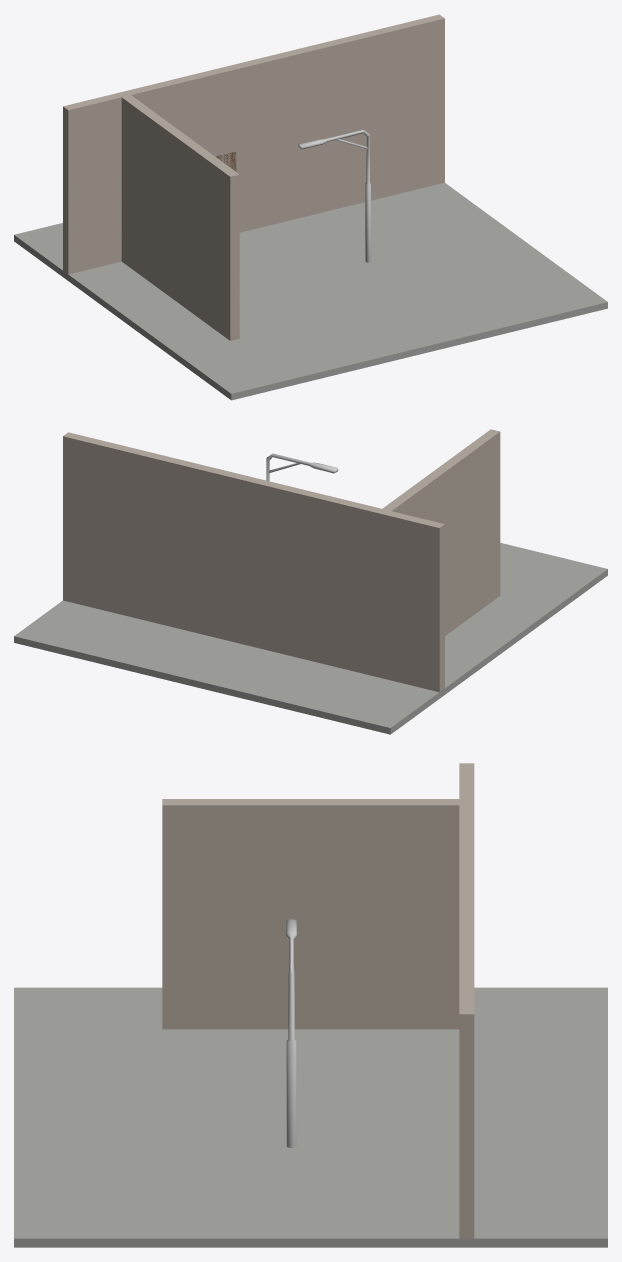
Rendered from source.gltf.
The picture shows the model from 3 angles, top to bottom: view 1: azimuth 30°, elevation 25°; view 2: azimuth 150°, elevation 25°; view 3: azimuth 270°, elevation 25°; orthographic projection. The views are drawn at different scales.
Parts seen in each view (by area): view 1: object 1, Group; view 2: object 1, Group; view 3: object 1, Group.
Part boxes in pixels (x1=…): object 1: x1=14, y1=14, x2=607, y2=400; Group: x1=298, y1=129, x2=370, y2=262; object 1: x1=14, y1=429, x2=607, y2=734; Group: x1=266, y1=453, x2=338, y2=481; object 1: x1=14, y1=763, x2=607, y2=1247; Group: x1=286, y1=919, x2=296, y2=1147.
Size of the model in its own units: 12 by 5.2 by 12.
